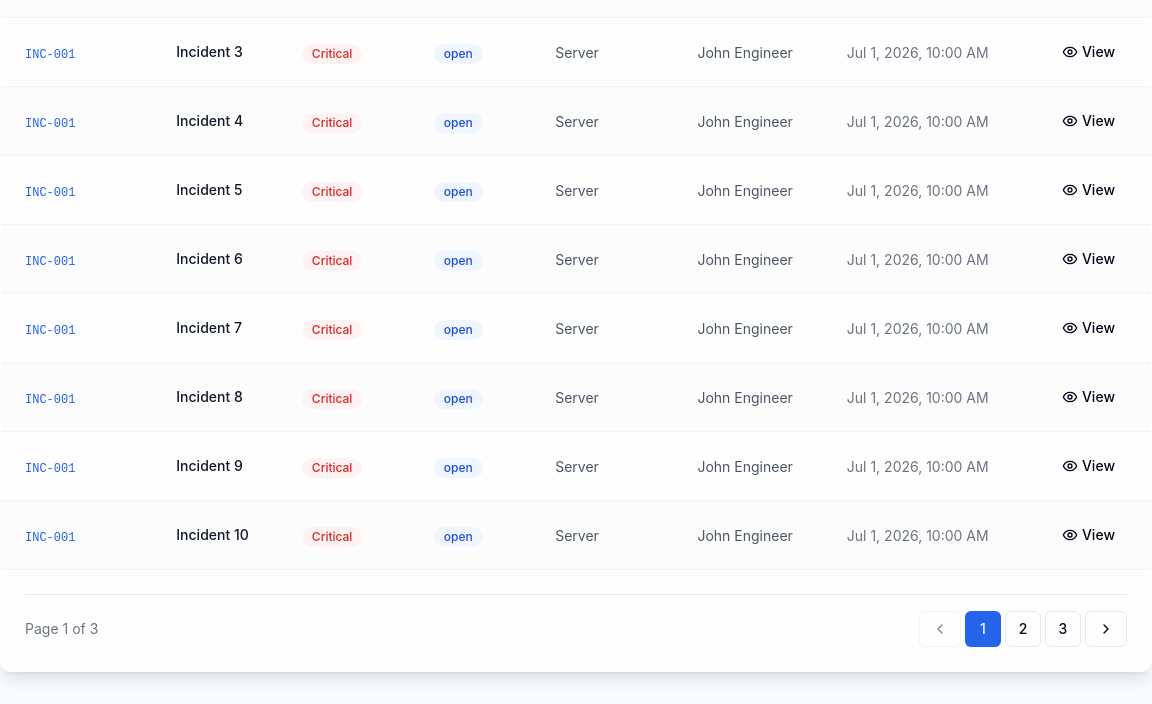
IncidentList › navigates to next page
This screenshot has width=1152, height=704.
(page scrolled)
Check: the text "Page 1 of 3" is shown, box [25,619,98,639]
Step 1. Click the button "2" → (1023, 629), box [1005,611,1041,647]
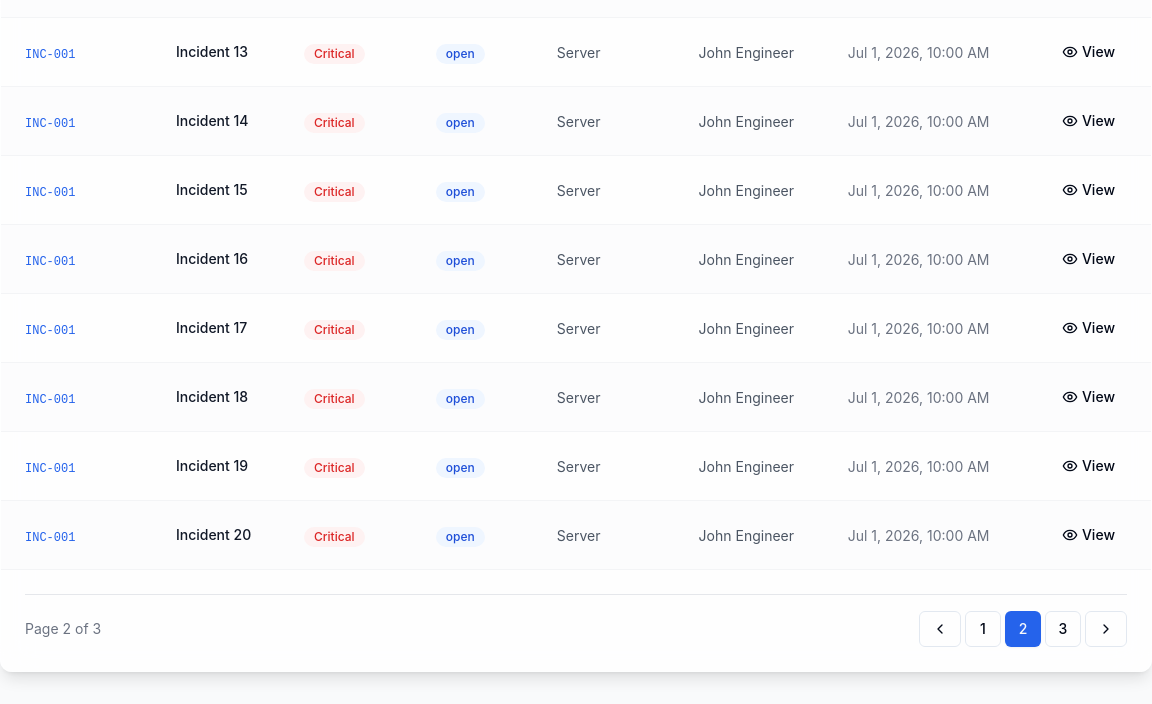
Check: the text "Page 2 of 3" is shown, box [25,619,101,639]
